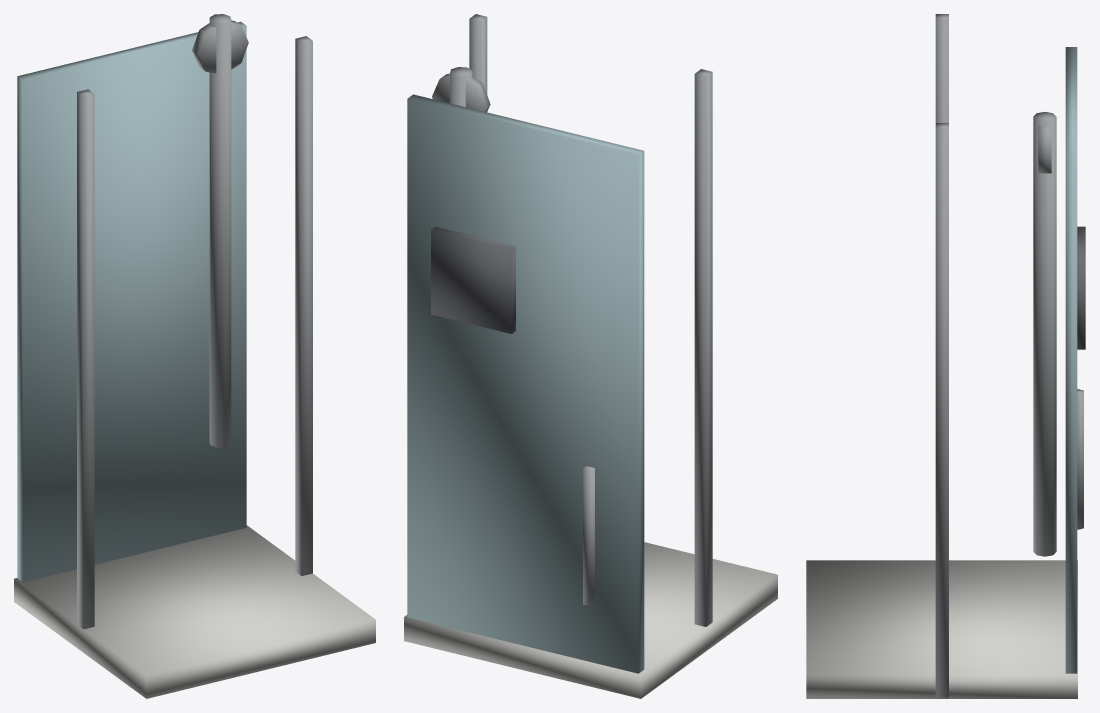
File: shower_stall__service.glb
3 views of the same model, side by side, from view 1: azimuth 30°, elevation 25°; view 2: azimuth 150°, elevation 25°; view 3: azimuth 270°, elevation 25° (orthographic). The views are drawn at different scales.
Parts seen in each view (by area): view 1: world; view 2: world; view 3: world.
Boxes of the visible parts, bbox=[...] form: world: bbox=[14, 14, 375, 698]; world: bbox=[404, 14, 777, 698]; world: bbox=[806, 14, 1085, 698].
Bounding box in the file's own units: 0.82 × 1.9 × 0.8425.
